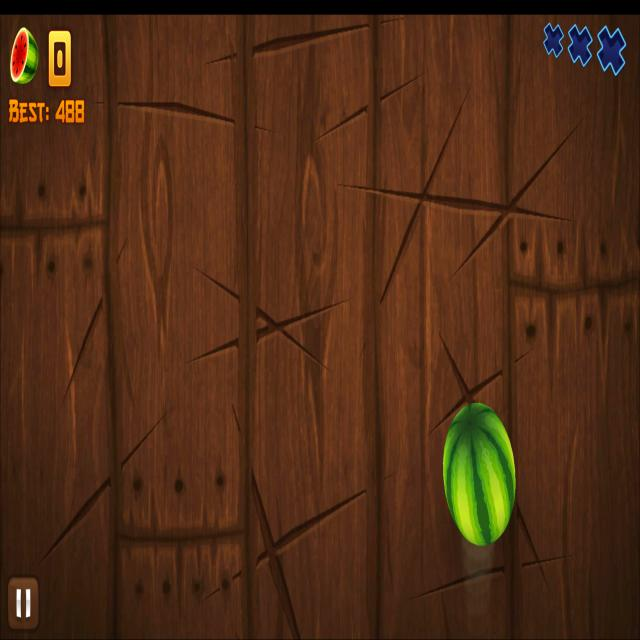fruit: (442, 398, 516, 548)
